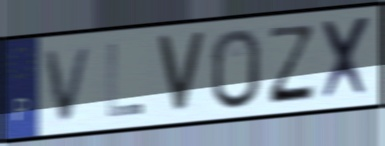L: (105, 41, 146, 120)
O: (209, 26, 263, 112)
V: (154, 30, 209, 117), (43, 43, 97, 125)
X: (320, 13, 374, 104)
Z: (266, 24, 317, 107)
